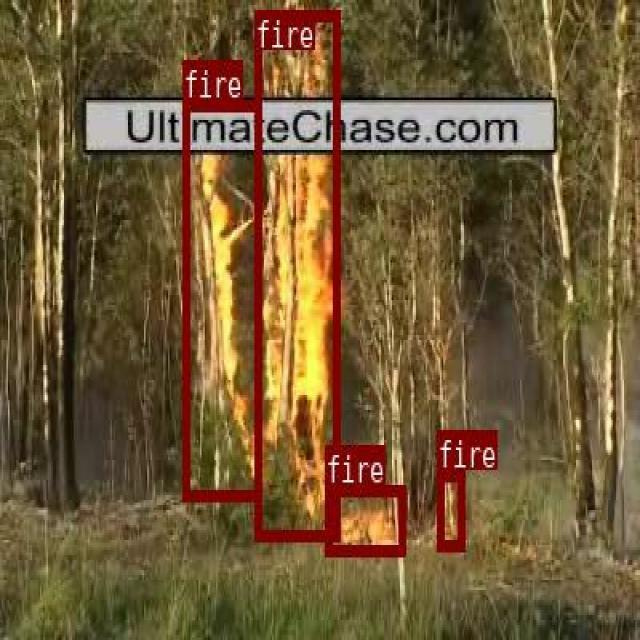fire: (254, 9, 338, 538), (181, 100, 260, 498), (323, 485, 404, 555), (436, 470, 463, 549)
